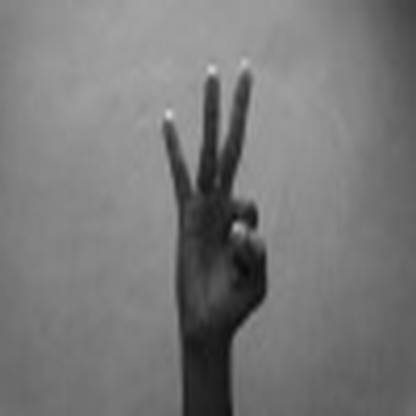f: (144, 46, 286, 326)
